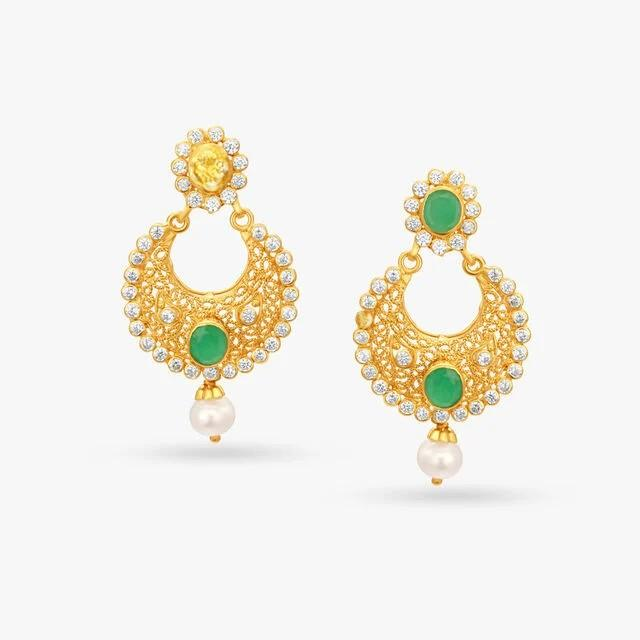missing gem: (191, 143, 230, 193)
